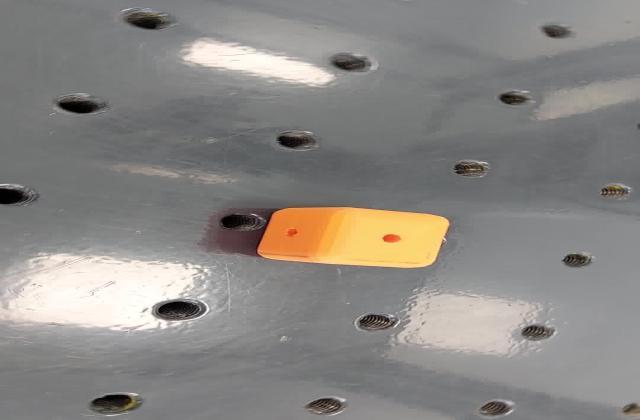cube: (253, 205, 448, 269)
